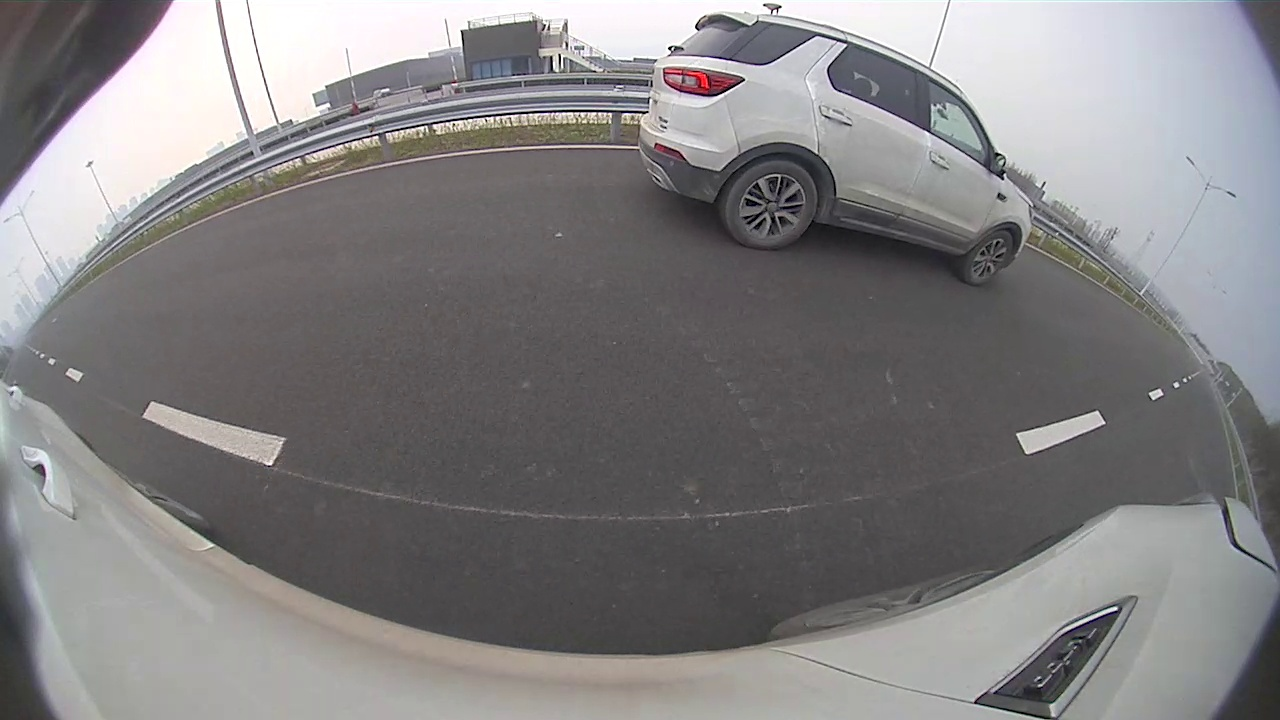car: (639, 11, 1034, 287)
front: (964, 230, 1014, 289)
rear: (728, 159, 817, 249)
